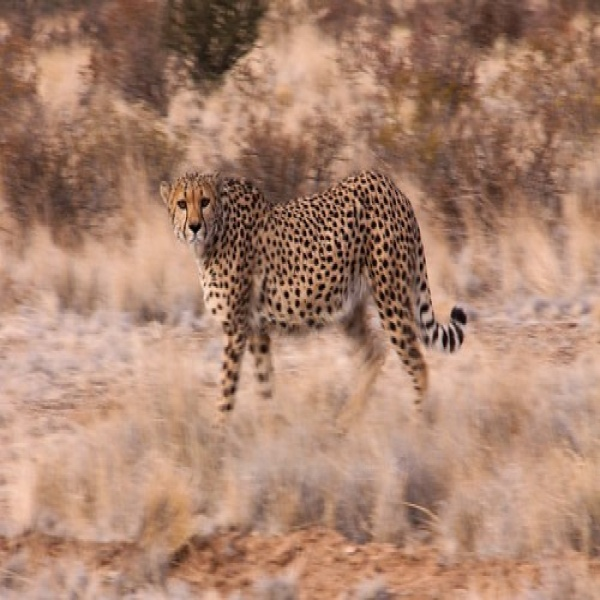Cheetah: (156, 168, 471, 425)
